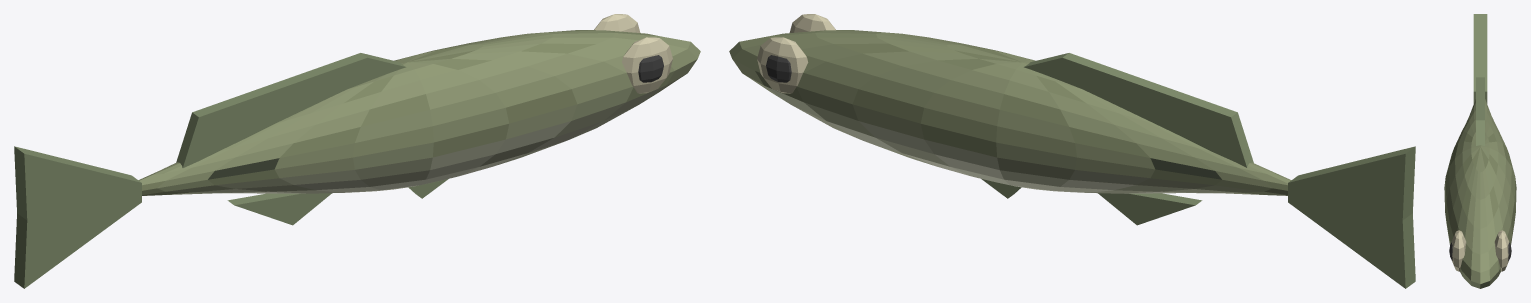
Rendered from Bowfin.glb.
3 renders of one model, left to right at view 1: azimuth 30°, elevation 25°; view 2: azimuth 150°, elevation 25°; view 3: azimuth 270°, elevation 25°, orthographic. The views are drawn at different scales.
Parts seen in each view (by area): view 1: Bowfin; view 2: Bowfin; view 3: Bowfin.
Boxes of the visible parts, x1,y1,x2,y2 form: Bowfin: [14, 14, 700, 288]; Bowfin: [729, 14, 1415, 288]; Bowfin: [1444, 14, 1516, 288].
Bounding box in the file's own units: 6.28 × 1.36 × 0.8533.
